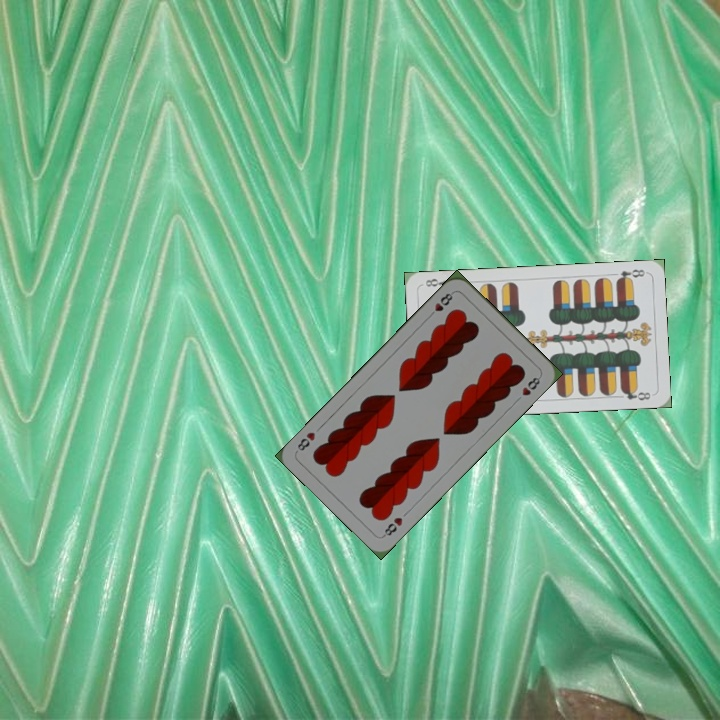E8: (612, 265, 647, 284)
H8: (425, 288, 456, 320), (379, 513, 405, 540)
